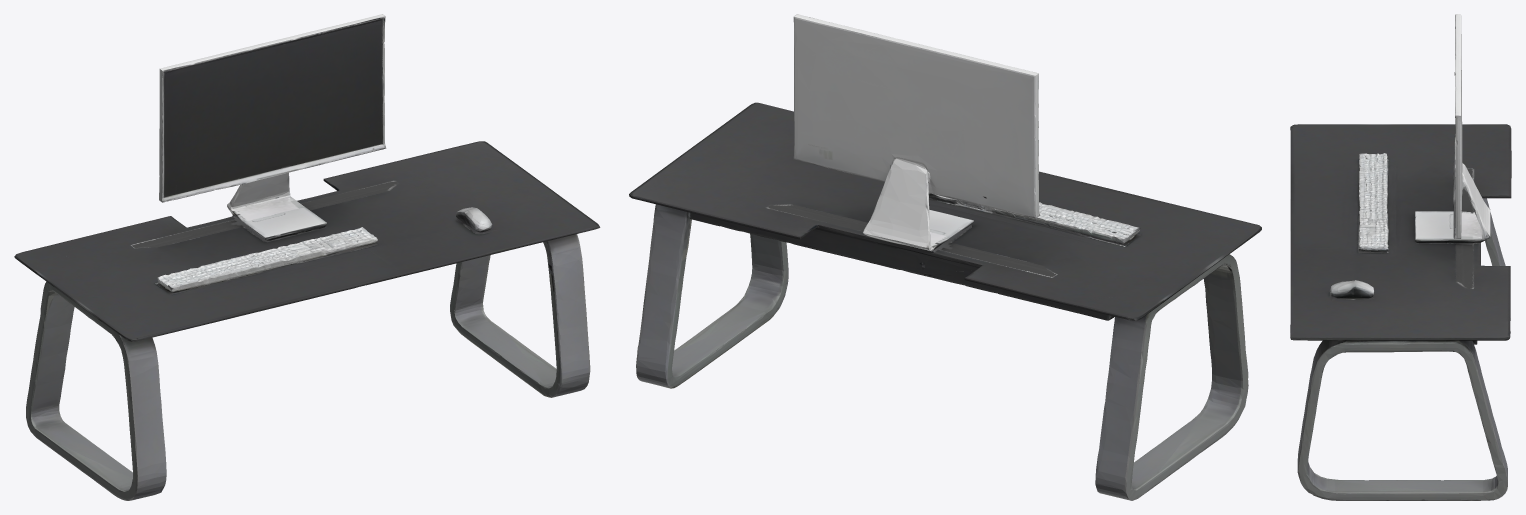
File: Desk_model.fbx
3 views of the same model, side by side, from view 1: azimuth 30°, elevation 25°; view 2: azimuth 150°, elevation 25°; view 3: azimuth 270°, elevation 25° (orthographic). The views are drawn at different scales.
Parts seen in each view (by area): view 1: temp; view 2: temp; view 3: temp.
Boxes of the visible parts, <box> form: temp: <box>14,14,600,500</box>; temp: <box>629,14,1261,500</box>; temp: <box>1290,14,1511,500</box>.
Size of the model in its own units: 200 by 143 by 86.97.
Materials: 1 (1 with a texture image).
